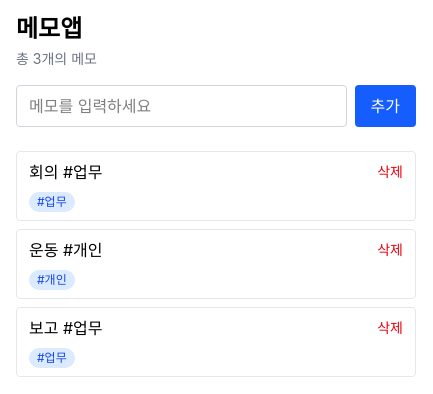
Test: App 태그 필터 › should show every memo again when the same chip is clicked a second time
The width and height of the screenshot is (433, 394).
Click the button "#업무" below "회의 #업무". click: (52, 202)
box: left=29, top=192, right=75, bottom=212
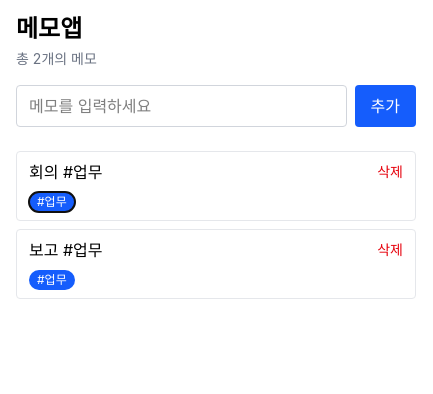
Click the button "#업무" below "회의 #업무". click: (52, 202)
box: left=29, top=192, right=75, bottom=212
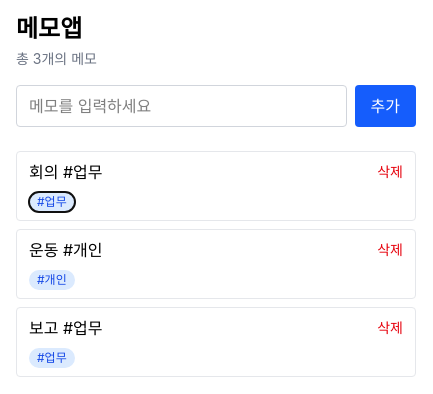
Check: the text "운동 #개인" is shown, box left=29, top=238, right=102, bottom=262
Check: the text "총 3개의 메모" is shown, box left=16, top=50, right=97, bottom=67
